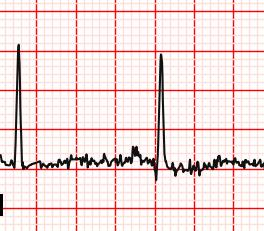Pathological Q Wave: (146, 154, 172, 186)
